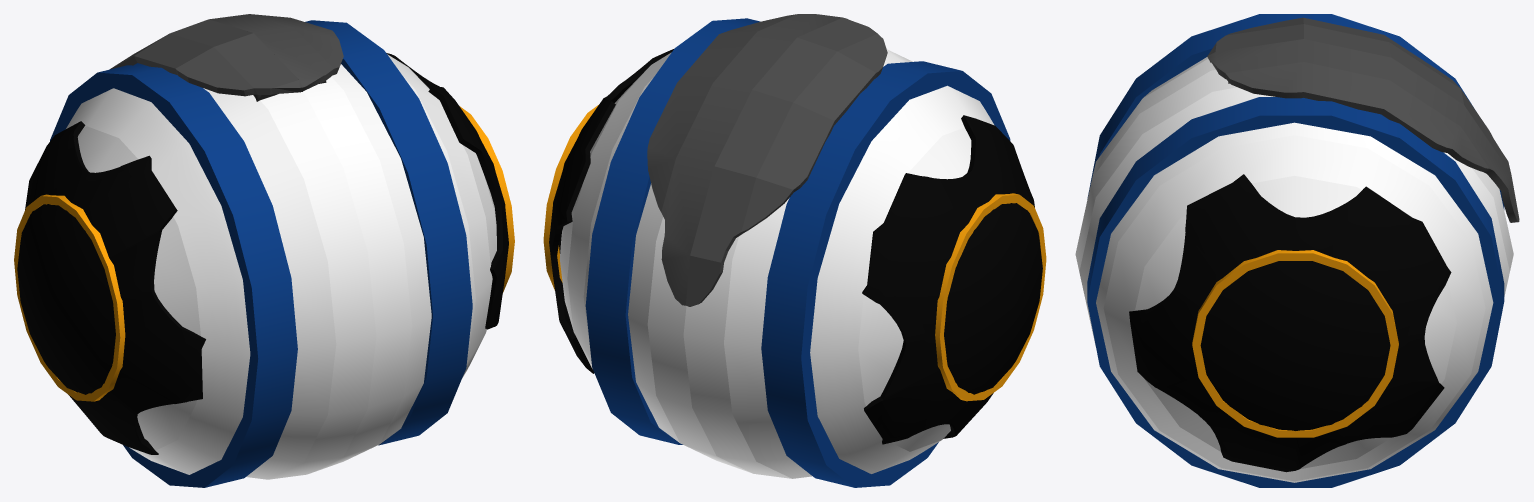
The model's file is Turret.FBX.
The picture shows the model from 3 angles, left to right: view 1: azimuth 30°, elevation 25°; view 2: azimuth 150°, elevation 25°; view 3: azimuth 270°, elevation 25°; orthographic projection. The views are drawn at different scales.
Parts seen in each view (by area): view 1: Line027, Sphere007, Tube005, Tube004, Line036, Sphere006, Tube003, Tube002; view 2: Line027, Line036, Sphere007, Tube005, Tube004, Sphere006, Tube003, Tube002; view 3: Sphere006, Line027, Line036, Tube004, Tube002, Tube005.
Part boxes in pixels (left/top/right/bottom): Line027: left=66, top=54, right=496, bottom=479; Sphere007: left=17, top=121, right=205, bottom=454; Tube005: left=50, top=63, right=297, bottom=487; Tube004: left=305, top=20, right=472, bottom=445; Line036: left=109, top=14, right=343, bottom=96; Sphere006: left=386, top=53, right=508, bottom=329; Tube003: left=14, top=194, right=125, bottom=401; Tube002: left=459, top=106, right=514, bottom=293; Line027: left=559, top=49, right=994, bottom=478; Line036: left=647, top=14, right=887, bottom=306; Sphere007: left=862, top=115, right=1042, bottom=444; Tube005: left=761, top=61, right=1010, bottom=487; Tube004: left=585, top=18, right=759, bottom=444; Sphere006: left=549, top=49, right=673, bottom=373; Tube003: left=935, top=193, right=1046, bottom=401; Tube002: left=543, top=105, right=598, bottom=290; Sphere006: left=1129, top=174, right=1451, bottom=472; Line027: left=1075, top=57, right=1513, bottom=482; Line036: left=1207, top=17, right=1519, bottom=222; Tube004: left=1087, top=97, right=1504, bottom=487; Tube002: left=1192, top=250, right=1398, bottom=437; Tube005: left=1087, top=14, right=1504, bottom=209.
Size of the model in its own units: 32.59 by 30.21 by 29.55.
